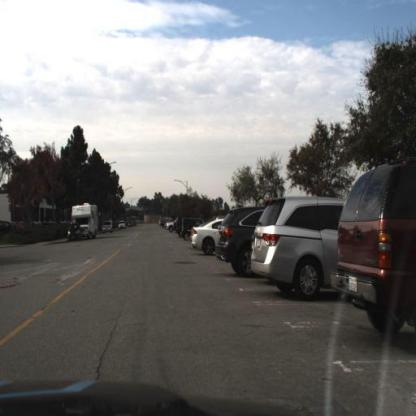car: (253, 192, 339, 298), (216, 212, 256, 280), (193, 220, 224, 254), (67, 221, 85, 244), (180, 217, 194, 245), (166, 216, 178, 238), (101, 220, 115, 236)
truck: (75, 204, 101, 239)
